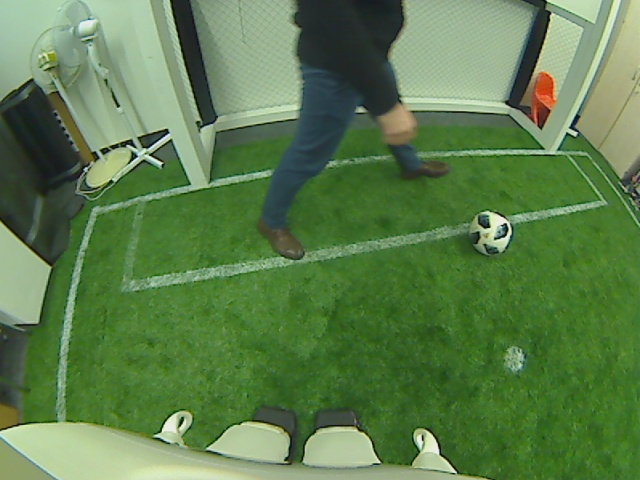ball: (468, 209, 512, 256)
